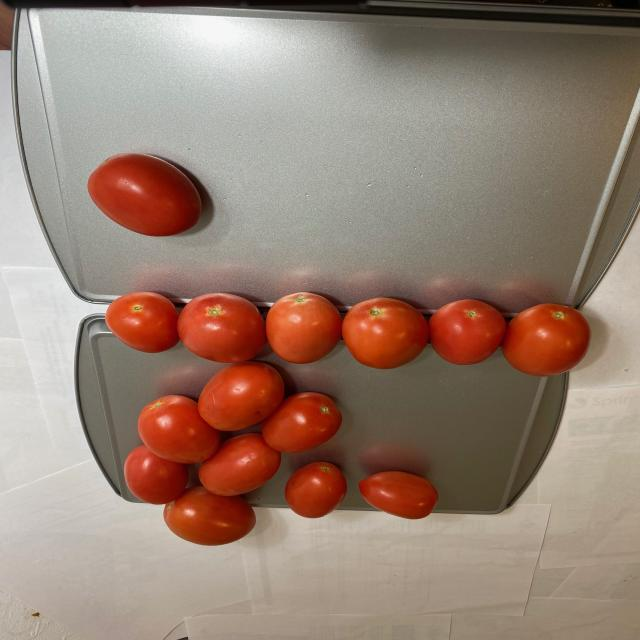tomato: (88, 293, 592, 545), (83, 153, 202, 238)
